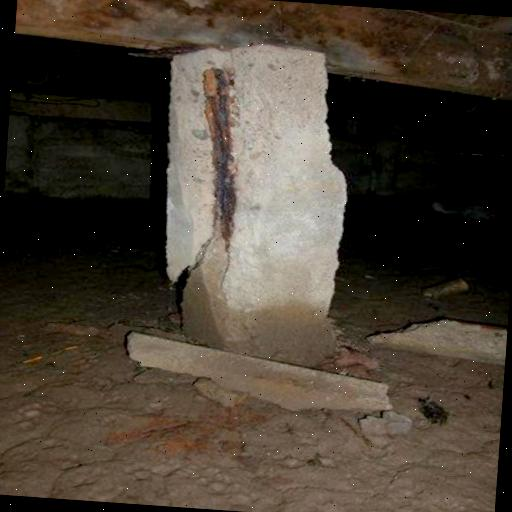spalling: (167, 40, 265, 296)
